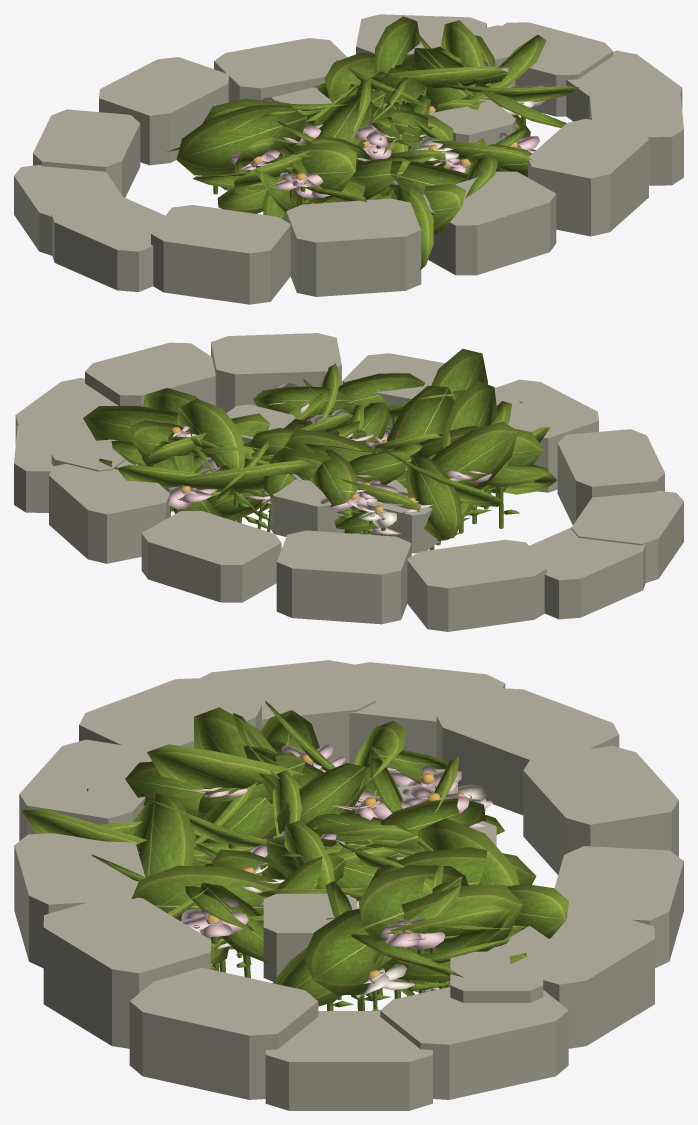
The model's file is Spring_FlowerSanctuaryBed.fbx.
3 renders of one model, top to bottom at view 1: azimuth 30°, elevation 25°; view 2: azimuth 150°, elevation 25°; view 3: azimuth 270°, elevation 25°, orthographic. The views are drawn at different scales.
Parts seen in each view (by area): view 1: Spring_FlowerSanctuaryBed; view 2: Spring_FlowerSanctuaryBed; view 3: Spring_FlowerSanctuaryBed.
Boxes of the visible parts, x1,y1,x2,y2 form: Spring_FlowerSanctuaryBed: [14, 14, 683, 304]; Spring_FlowerSanctuaryBed: [14, 333, 683, 631]; Spring_FlowerSanctuaryBed: [14, 660, 683, 1110].
Bounding box in the file's own units: 5.05 × 0.7746 × 3.6.
